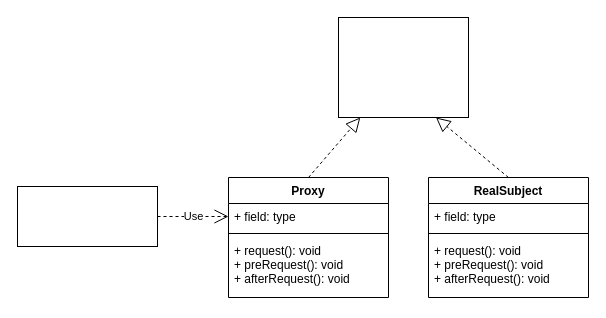
The diagram is 606 pixels wide and 318 high, and some of its shapes have lost their labels. Here are the shapes that lost their labels. From the top down, the centre of each, then its label:
pixel 403 67: <<Interface>> Subject + field: type + request(): void
pixel 87 216: Client
